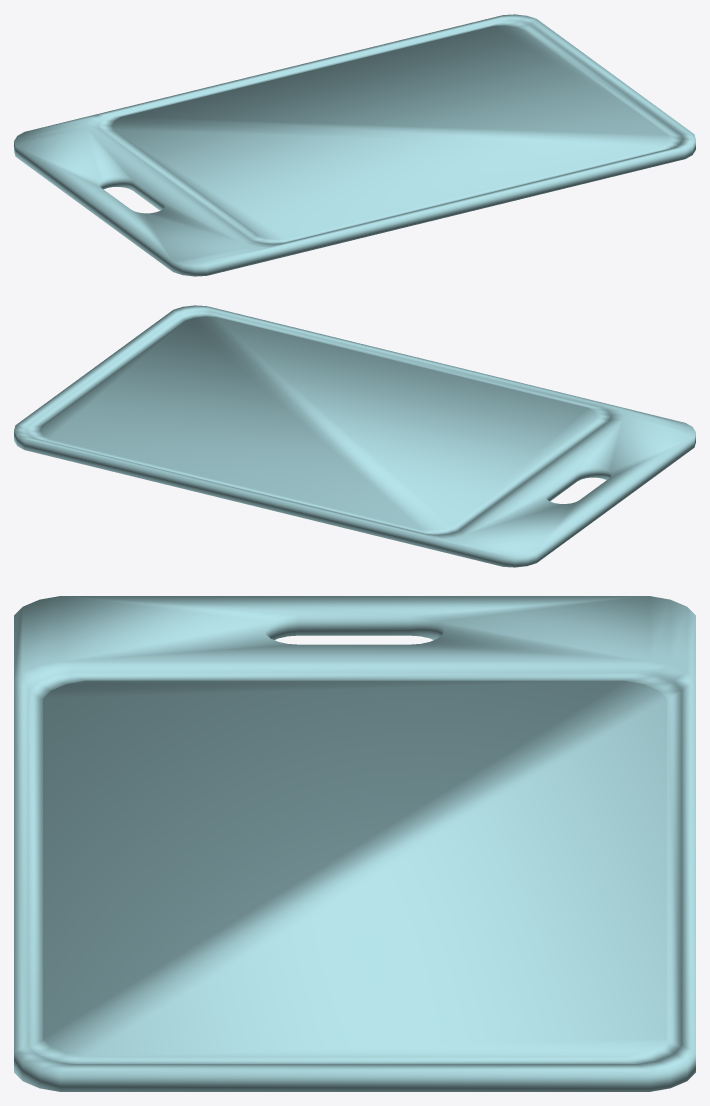
File: CuttingBoard.fbx
3 views of the same model, one above another, from view 1: azimuth 30°, elevation 25°; view 2: azimuth 150°, elevation 25°; view 3: azimuth 270°, elevation 25° (orthographic). The views are drawn at different scales.
Parts seen in each view (by area): view 1: polySurface3; view 2: polySurface3; view 3: polySurface3.
Boxes of the visible parts, x1=… form: polySurface3: x1=14, y1=14, x2=695, y2=276; polySurface3: x1=14, y1=305, x2=695, y2=567; polySurface3: x1=14, y1=596, x2=695, y2=1091.
Bounding box in the file's own units: 5.06 × 0.0988 × 3.07.
